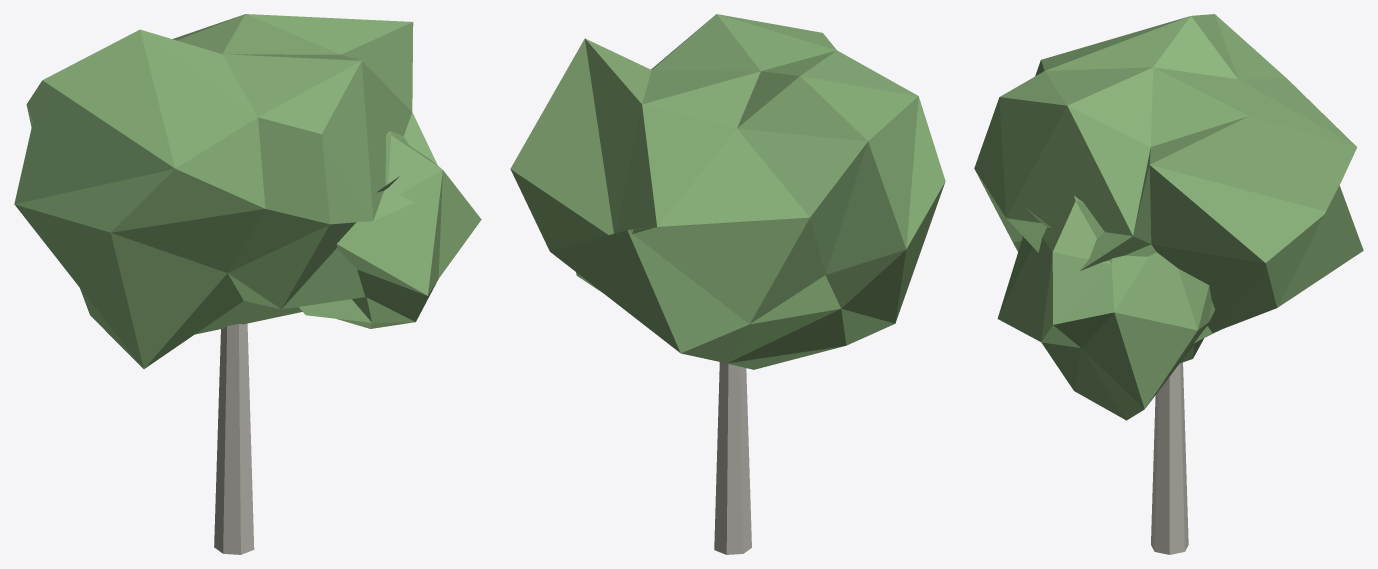
Rendered from nature_tree_deciduous_03.glb.
The picture shows the model from 3 angles, left to right: view 1: azimuth 30°, elevation 25°; view 2: azimuth 150°, elevation 25°; view 3: azimuth 270°, elevation 25°; orthographic projection. The views are drawn at different scales.
Parts seen in each view (by area): view 1: geometry_0; view 2: geometry_0; view 3: geometry_0.
Part boxes in pixels (bbox=[...]): geometry_0: bbox=[14, 14, 481, 554]; geometry_0: bbox=[510, 14, 945, 554]; geometry_0: bbox=[974, 14, 1363, 554].
Size of the model in its own units: 3.01 by 3.93 by 2.81.
